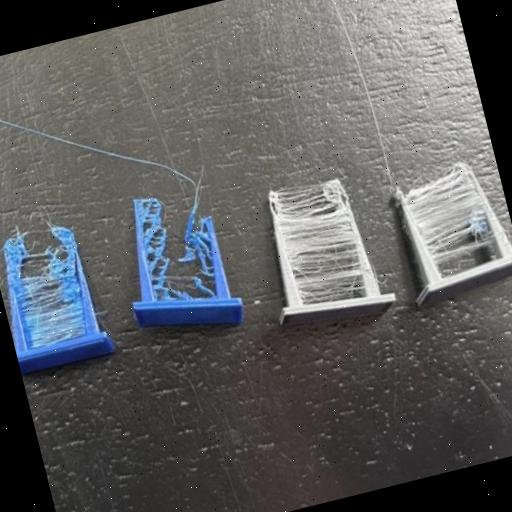stringing: (268, 170, 372, 316), (394, 158, 504, 270)
